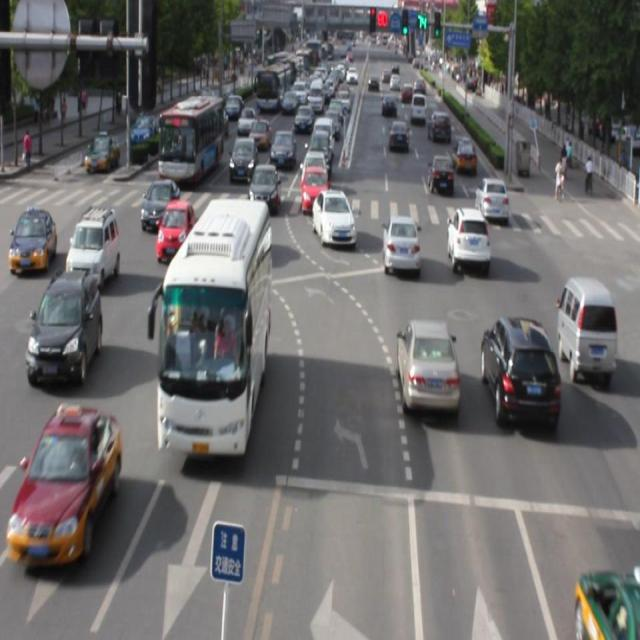car: (13, 400, 119, 566), (26, 267, 104, 384), (482, 315, 557, 425), (398, 315, 457, 413), (576, 570, 640, 640), (67, 209, 119, 282), (311, 196, 355, 253), (448, 205, 487, 268), (155, 200, 194, 259), (381, 213, 419, 270), (140, 181, 175, 229)
truck: (556, 276, 616, 381)
van: (158, 195, 270, 454)
